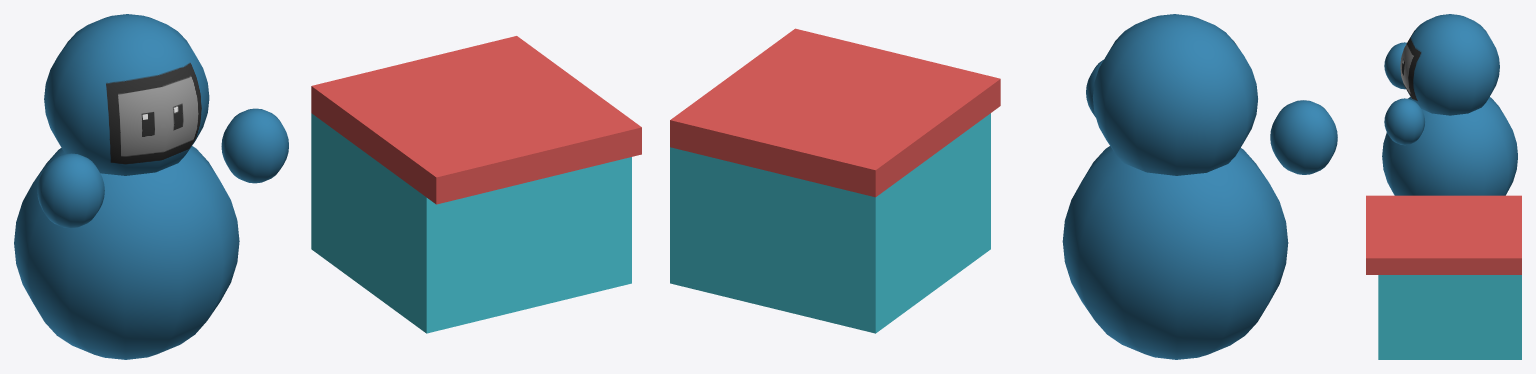
Rendered from kitchencounter.fbx.
The picture shows the model from 3 angles, left to right: view 1: azimuth 30°, elevation 25°; view 2: azimuth 150°, elevation 25°; view 3: azimuth 270°, elevation 25°; orthographic projection. The views are drawn at different scales.
Parts seen in each view (by area): view 1: kitchencounter, gamechar; view 2: kitchencounter, gamechar; view 3: kitchencounter, gamechar.
Boxes of the visible parts, left/top/right/bottom form: kitchencounter: left=311, top=36, right=641, bottom=333; gamechar: left=14, top=14, right=288, bottom=359; kitchencounter: left=670, top=28, right=1000, bottom=333; gamechar: left=1062, top=14, right=1337, bottom=359; kitchencounter: left=1366, top=195, right=1521, bottom=359; gamechar: left=1382, top=14, right=1517, bottom=195.
Bounding box in the file's own units: 277 × 153 × 105.
